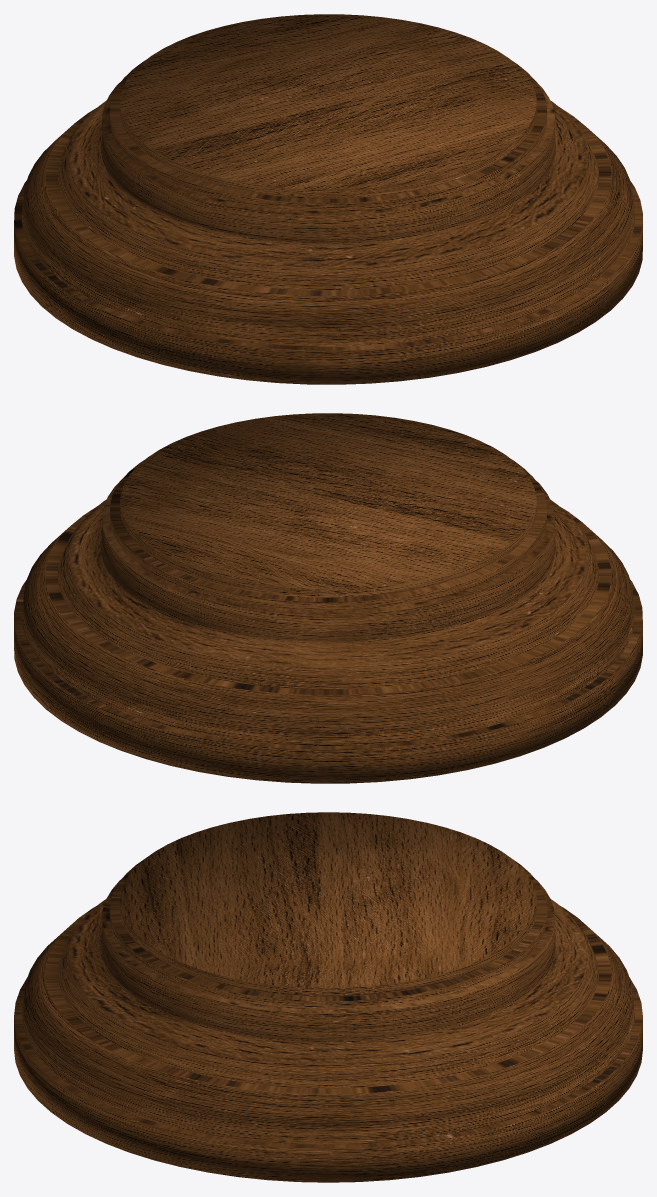
File: basement.glb
3 views of the same model, one above another, from view 1: azimuth 30°, elevation 25°; view 2: azimuth 150°, elevation 25°; view 3: azimuth 270°, elevation 25° (orthographic).
Visible parts, largest first — view 1: 柱体; view 2: 柱体; view 3: 柱体.
Boxes of the visible parts, left/top/right/bottom form: 柱体: left=14, top=14, right=642, bottom=384; 柱体: left=14, top=413, right=642, bottom=783; 柱体: left=14, top=812, right=642, bottom=1182.
Size of the model in its own units: 1.77 by 0.4652 by 1.77.
1 material, 1 textured.
